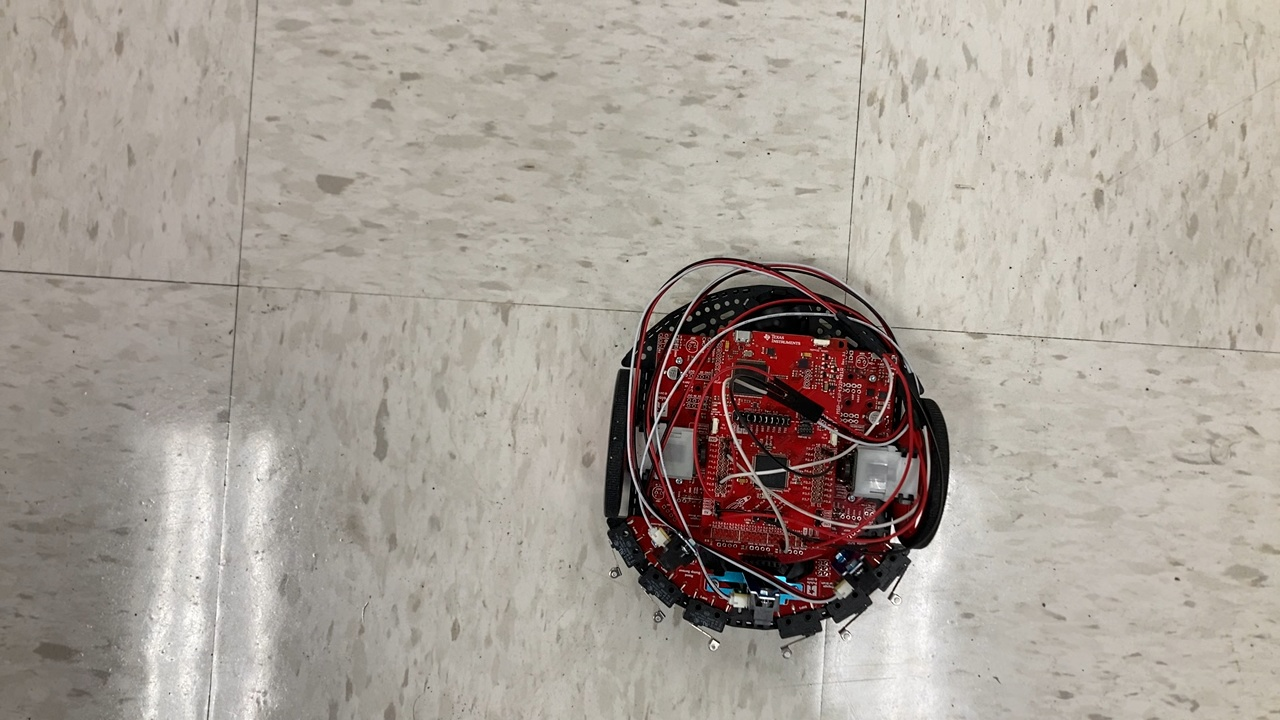robot: (593, 254, 959, 667)
